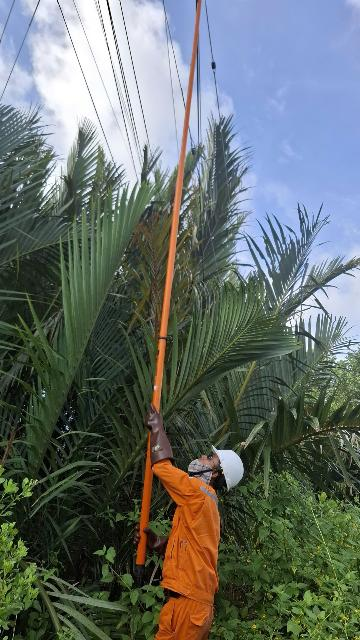gloves: (141, 392, 174, 470)
helmet: (205, 438, 259, 499)
